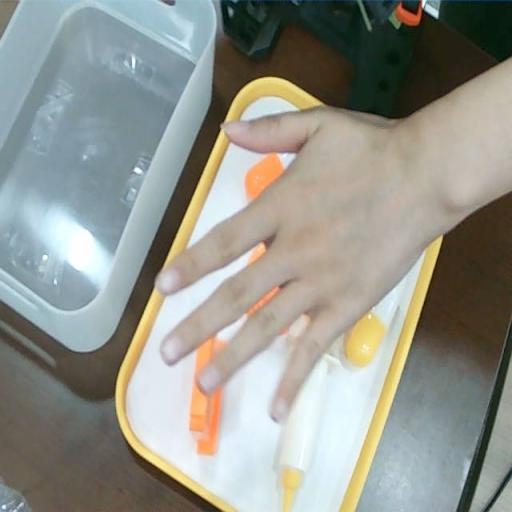hospital: (159, 107, 418, 423)
